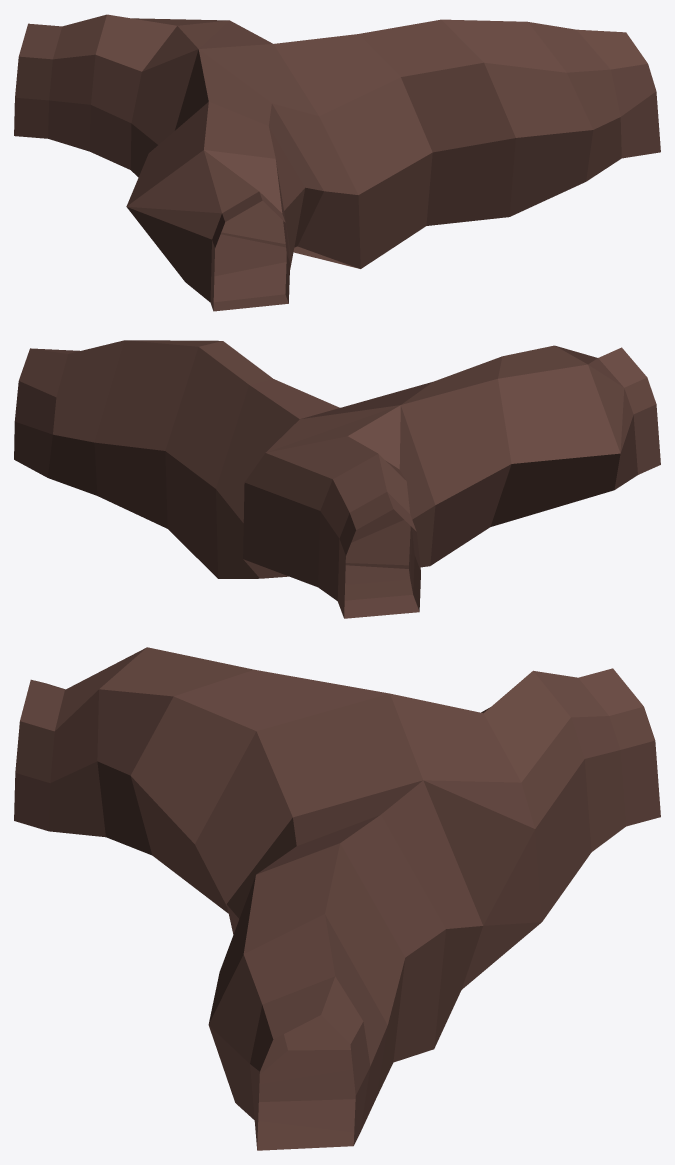
The model's file is Tunnel-Y06.fbx.
3 views of the same model, one above another, from view 1: azimuth 30°, elevation 25°; view 2: azimuth 150°, elevation 25°; view 3: azimuth 270°, elevation 25° (orthographic). The views are drawn at different scales.
Parts seen in each view (by area): view 1: Tunnel-Y06; view 2: Tunnel-Y06; view 3: Tunnel-Y06.
Boxes of the visible parts, left/top/right/bottom form: Tunnel-Y06: left=14, top=14, right=660, bottom=311; Tunnel-Y06: left=14, top=340, right=660, bottom=618; Tunnel-Y06: left=14, top=647, right=660, bottom=1150.
Bounding box in the file's own units: 1128 × 1405 × 501.
